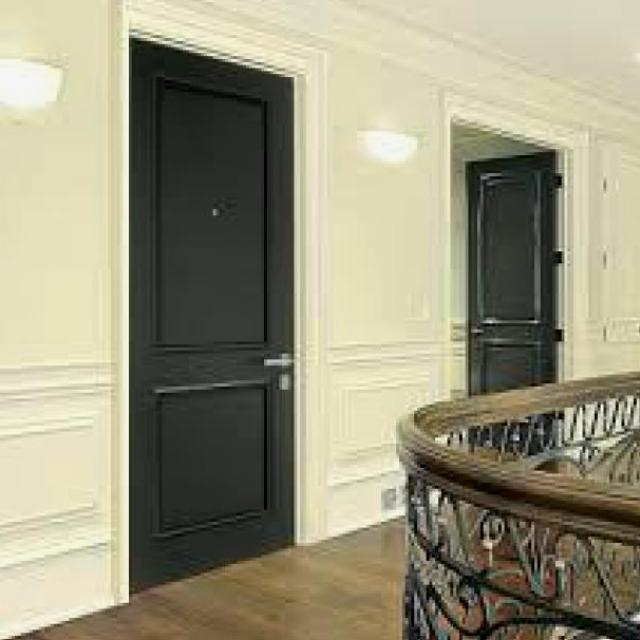door: (128, 37, 296, 592)
